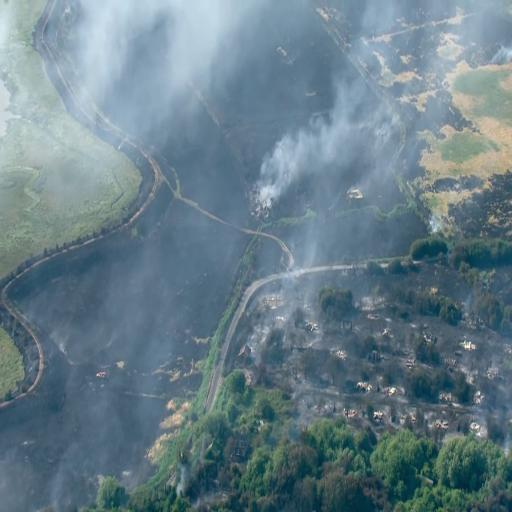smoke: (77, 0, 131, 86), (267, 139, 313, 190)
